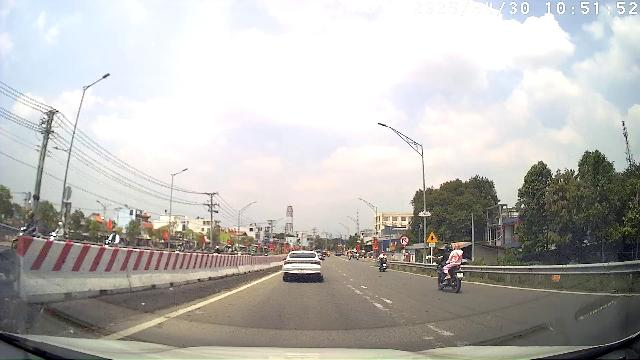123b-cam-re-phai: (399, 235, 410, 246)
